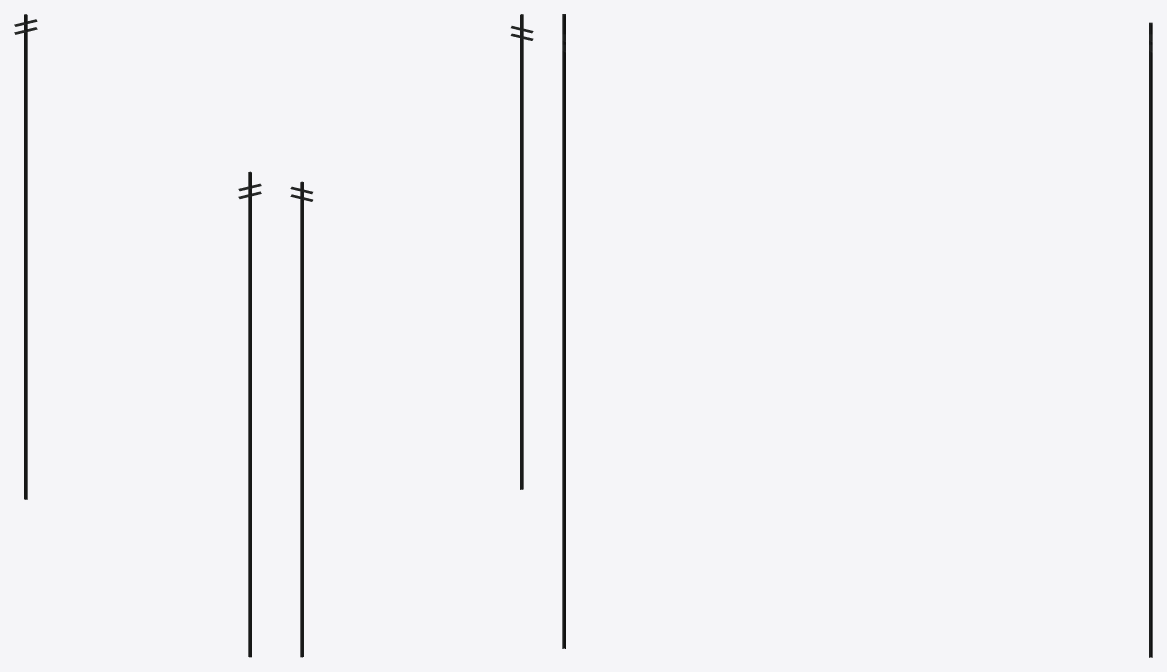
Rendered from AMB_DENCHU00.glb.
The picture shows the model from 3 angles, left to right: view 1: azimuth 30°, elevation 25°; view 2: azimuth 150°, elevation 25°; view 3: azimuth 270°, elevation 25°; orthographic projection. The views are drawn at different scales.
Parts seen in each view (by area): view 1: BASE; view 2: BASE; view 3: BASE.
Part boxes in pixels (left/top/right/bottom): BASE: left=14, top=14, right=261, bottom=657; BASE: left=290, top=14, right=533, bottom=657; BASE: left=562, top=14, right=1152, bottom=657.
Bounding box in the file's own units: 4.84 × 101 × 83.98.
Materials: 1 (1 with a texture image).
